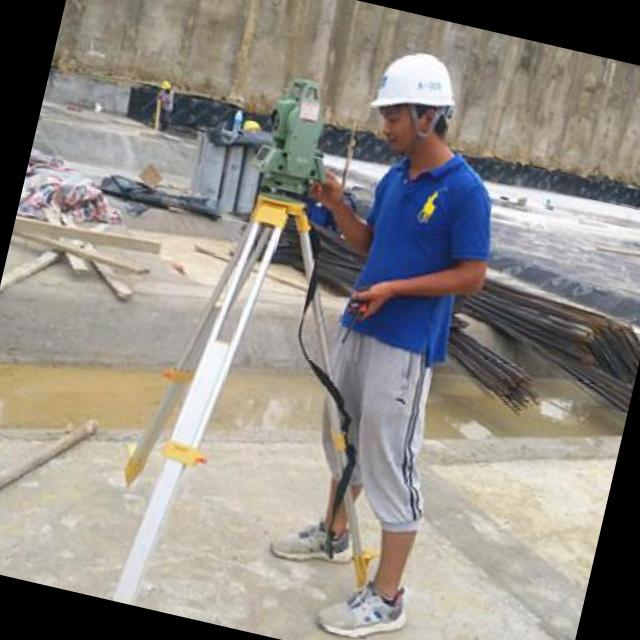helmet: (354, 34, 466, 167)
